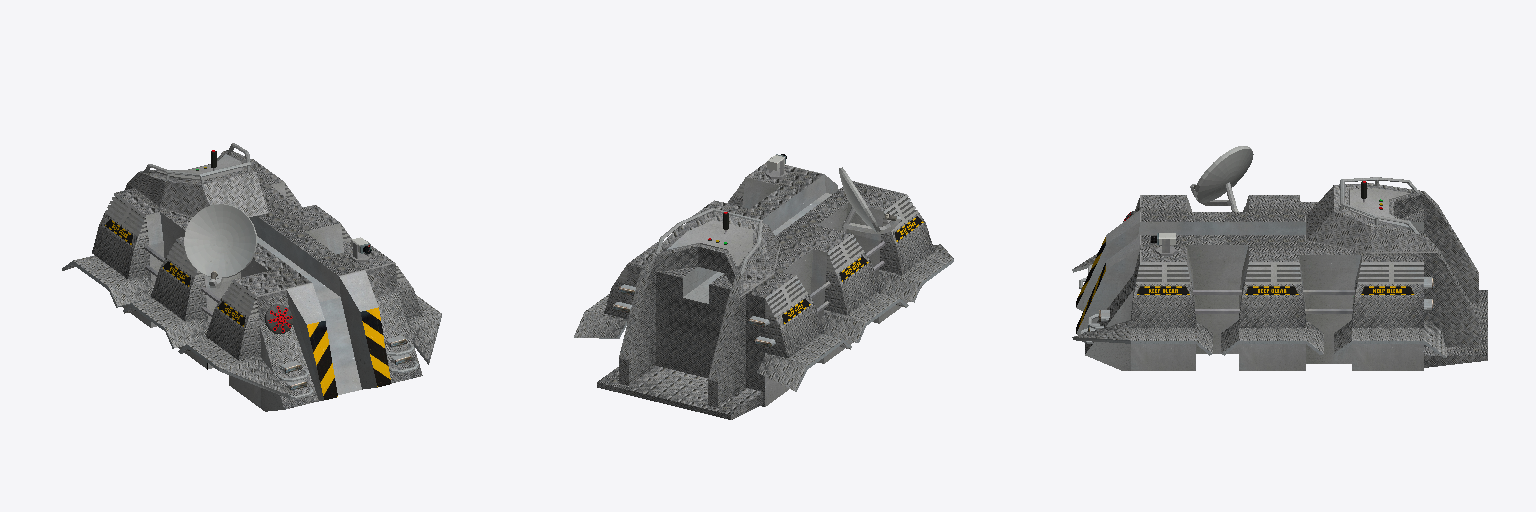
The picture shows the model from 3 angles: view 1: azimuth 30°, elevation 25°; view 2: azimuth 150°, elevation 25°; view 3: azimuth 270°, elevation 25°; orthographic projection.
Parts seen in each view (by area): view 1: body, antennas, props; view 2: body, props, antennas; view 3: body, props, antennas.
Boxes of the visible parts, box(x1,y1,x2,y2) form: body: box(62, 150, 441, 411); antennas: box(184, 204, 292, 333); props: box(143, 143, 418, 398); body: box(574, 162, 953, 419); props: box(613, 208, 884, 347); antennas: box(839, 167, 900, 233); body: box(1072, 183, 1487, 370); props: box(1079, 177, 1433, 343); antennas: box(1123, 146, 1253, 221).
Size of the model in its own units: 1.41 by 0.9892 by 2.28.
Materials: 3 (3 with a texture image).